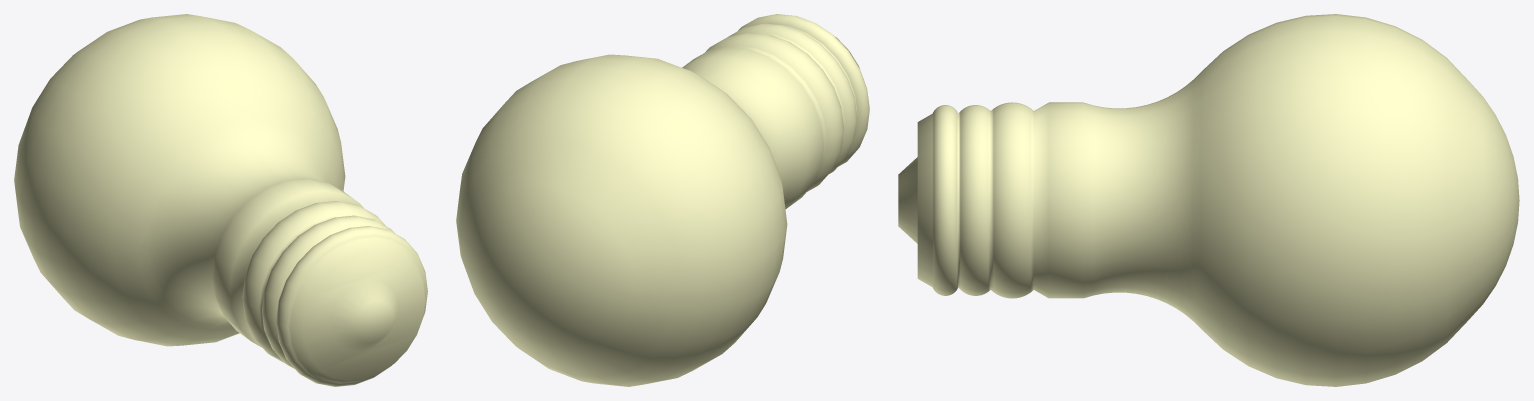
File: lightbulb1_3.dae
3 views of the same model, side by side, from view 1: azimuth 30°, elevation 25°; view 2: azimuth 150°, elevation 25°; view 3: azimuth 270°, elevation 25° (orthographic). The views are drawn at different scales.
Parts seen in each view (by area): view 1: lightbulb1_019; view 2: lightbulb1_019; view 3: lightbulb1_019.
Boxes of the visible parts, x1=… form: lightbulb1_019: x1=14, y1=14, x2=427, y2=386; lightbulb1_019: x1=456, y1=14, x2=869, y2=386; lightbulb1_019: x1=898, y1=14, x2=1519, y2=386.
Bounding box in the file's own units: 0.1122 × 0.1862 × 0.1122.
